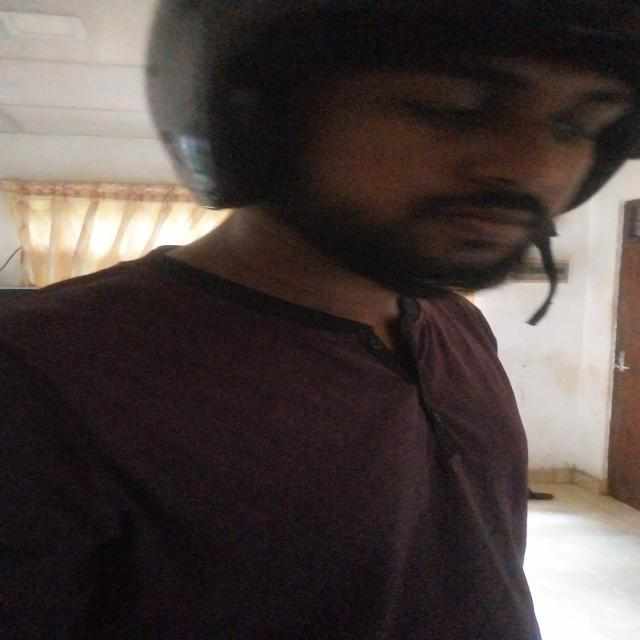Helmet_Wearer: (142, 0, 631, 275)
Person: (6, 1, 640, 640)
